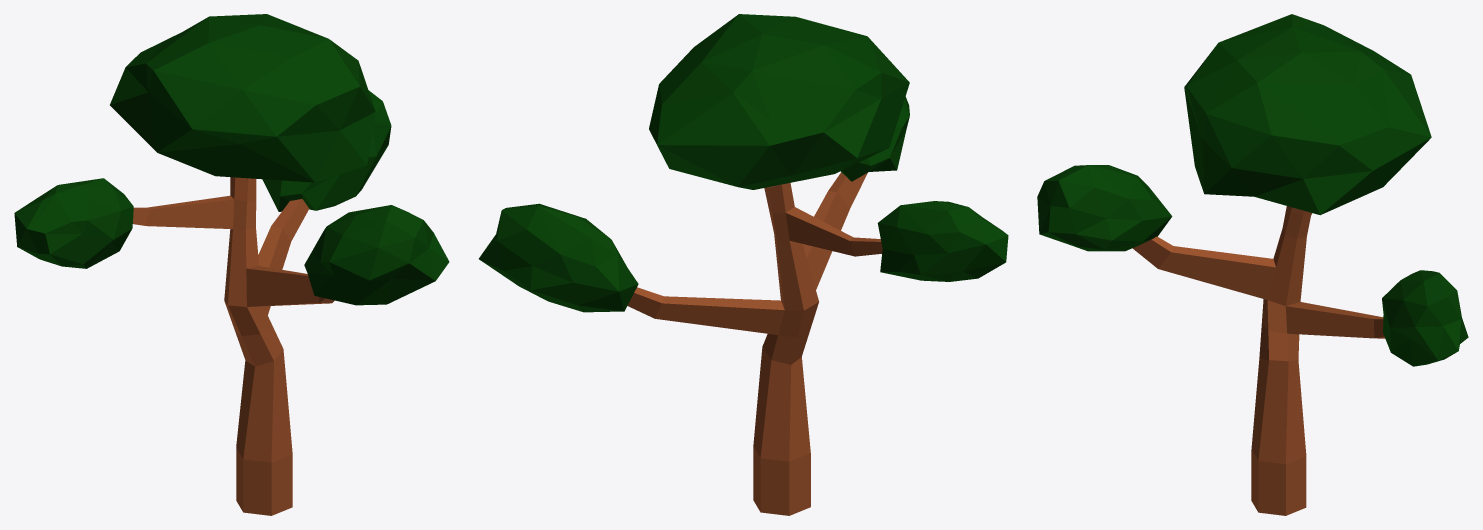
The model's file is low_poly_tree2.obj.
3 renders of one model, left to right at view 1: azimuth 30°, elevation 25°; view 2: azimuth 150°, elevation 25°; view 3: azimuth 270°, elevation 25°, orthographic. The views are drawn at different scales.
Visible parts, largest first — view 1: Icokugel.003, Zylinder, Icokugel.002, Icokugel.001, Icokugel; view 2: Icokugel.003, Zylinder, Icokugel, Icokugel.001, Icokugel.002; view 3: Icokugel.003, Zylinder, Icokugel.002, Icokugel.
Boxes of the visible parts, x1,y1,x2,y2 form: Icokugel.003: (110,14,375,182); Zylinder: (133,177,334,515); Icokugel.002: (304,205,449,305); Icokugel.001: (14,178,133,268); Icokugel: (262,90,391,211); Icokugel.003: (649,14,909,189); Zylinder: (627,172,882,515); Icokugel: (479,203,638,312); Icokugel.001: (877,201,1008,281); Icokugel.002: (840,96,909,181); Icokugel.003: (1184,14,1431,215); Zylinder: (1132,206,1385,515); Icokugel.002: (1037,165,1172,251); Icokugel: (1382,270,1468,366).
Bounding box in the file's own units: 17.29 × 17.58 × 15.11.
